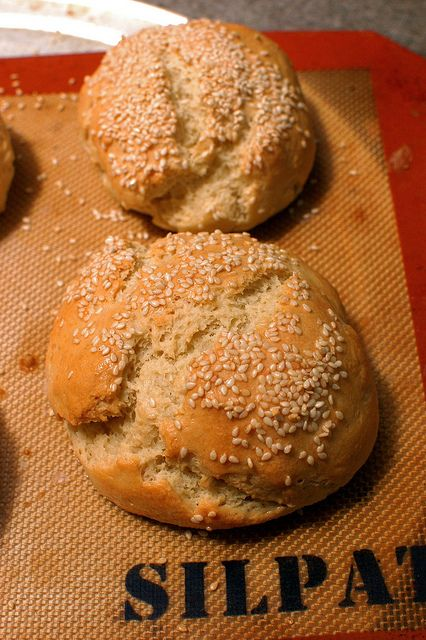hamburger_buns: (47, 233, 386, 527), (70, 35, 344, 235)
